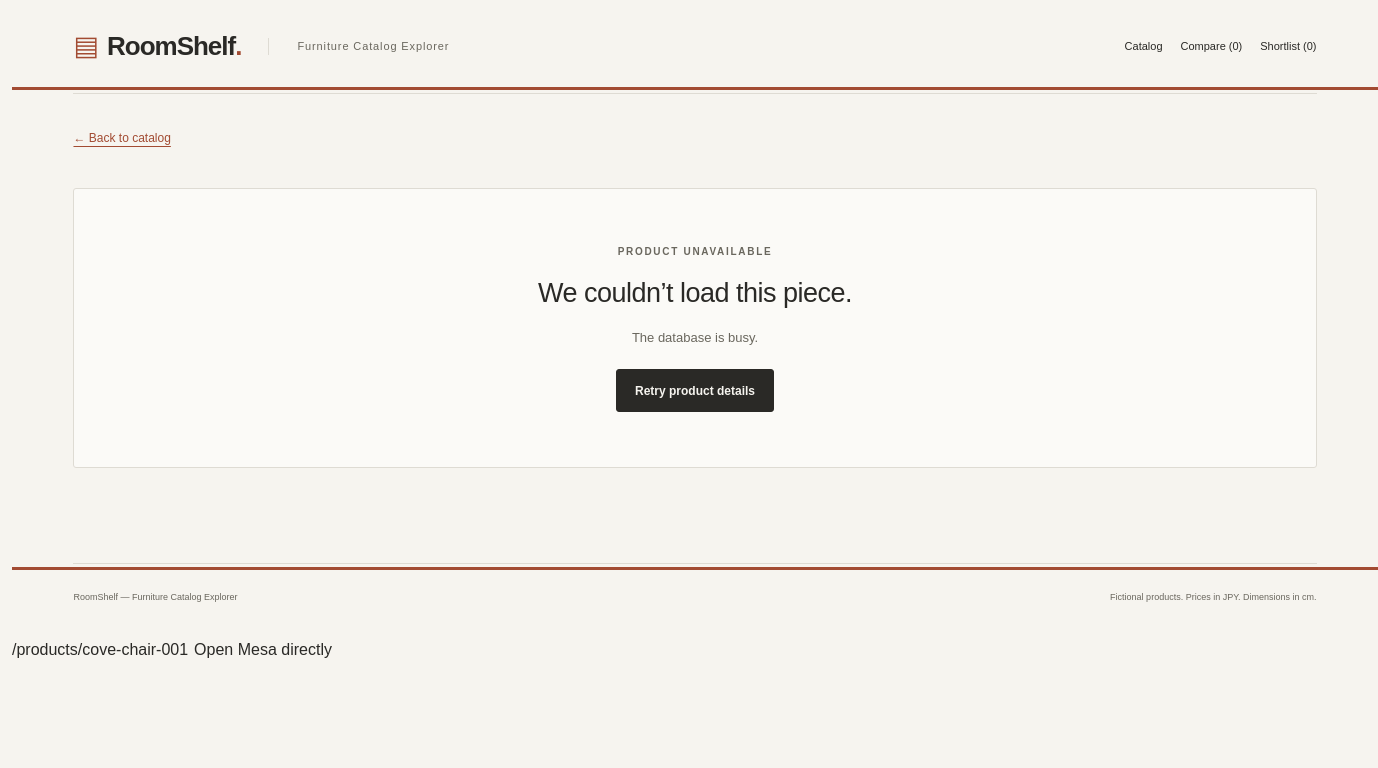
it: product details › retries a temporary detail failure and reveals the product
Expected: the message shows "The database is busy.", [632, 330, 758, 344]
Click the button "Retry product details": x=695, y=390 [616, 369, 774, 412]
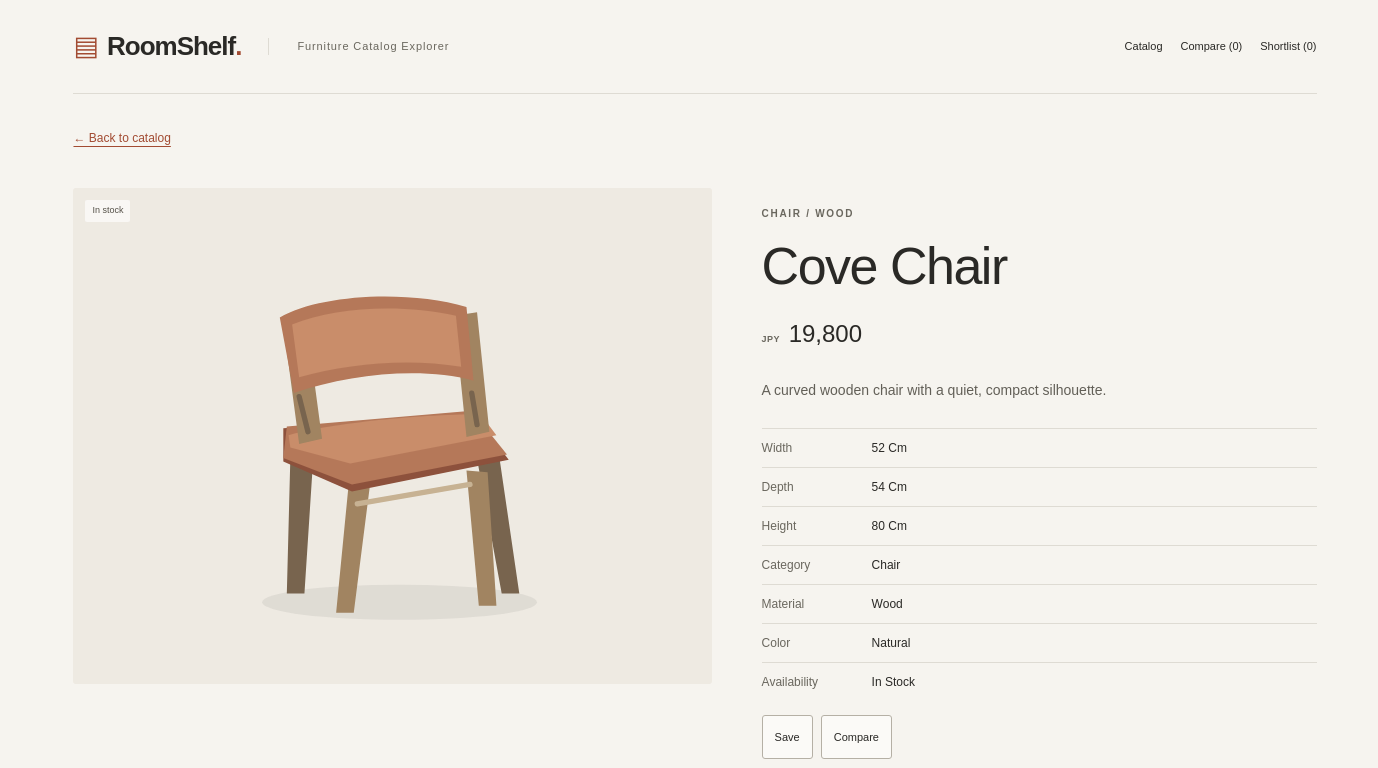
Result: the heading "Cove Chair" is shown at [762, 237, 1007, 295]
Result: the message is gone
